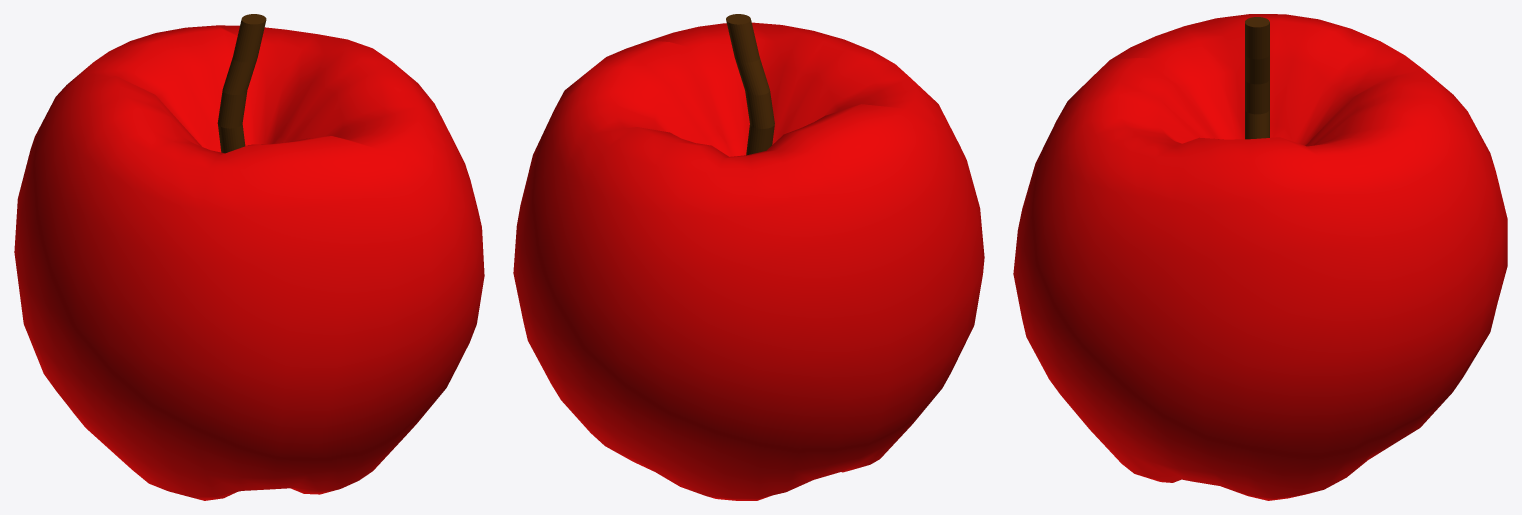
Rendered from PickupApple.fbx.
3 renders of one model, left to right at view 1: azimuth 30°, elevation 25°; view 2: azimuth 150°, elevation 25°; view 3: azimuth 270°, elevation 25°, orthographic.
Visible parts, largest first — view 1: Sphere, Cylinder; view 2: Sphere, Cylinder; view 3: Sphere, Cylinder.
Part boxes in pixels (box(x1,y1,x2,y2)): Sphere: box(14, 25, 484, 500); Cylinder: box(217, 14, 266, 153); Sphere: box(513, 22, 984, 500); Cylinder: box(726, 14, 774, 155); Sphere: box(1013, 14, 1507, 500); Cylinder: box(1245, 17, 1269, 139).
Size of the model in its own units: 94.63 by 97.75 by 99.75.
